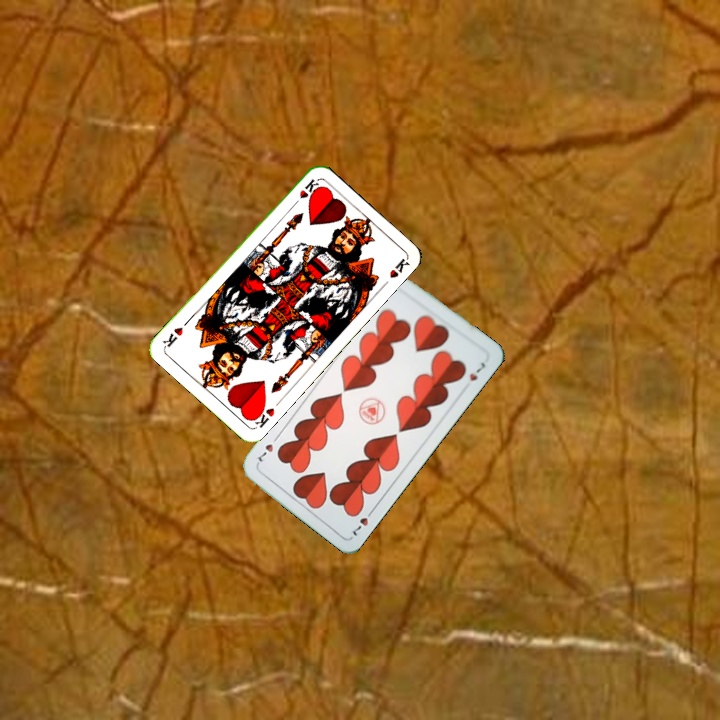H7: (346, 504, 377, 539)
HK: (288, 175, 322, 210), (247, 400, 277, 431)
